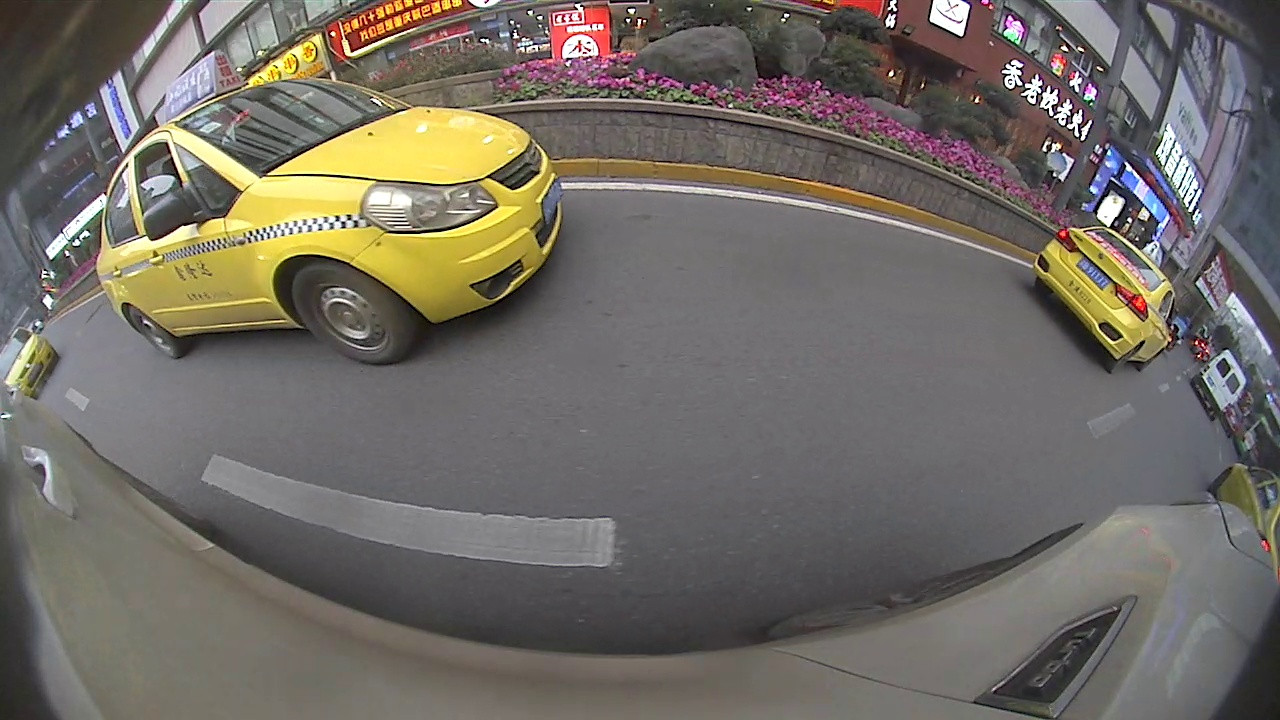car: (94, 48, 563, 364), (1034, 228, 1180, 376), (1189, 351, 1248, 423), (1, 328, 60, 397)
front: (286, 262, 402, 368), (1208, 467, 1232, 492)
rear: (124, 306, 180, 360), (1108, 341, 1141, 376)
